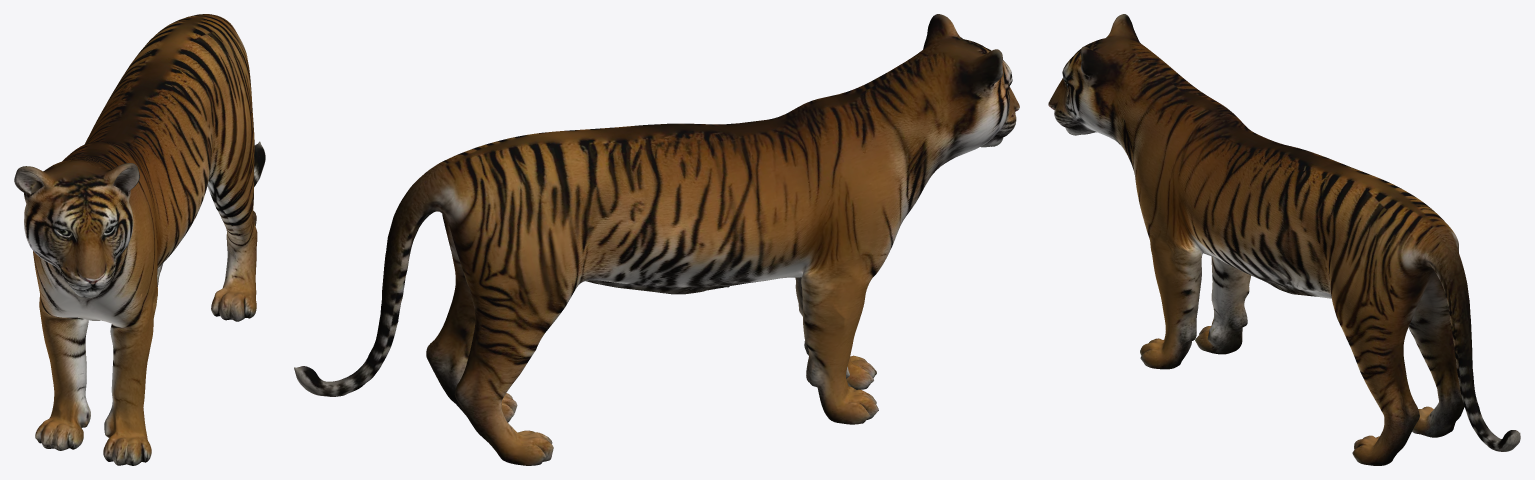
File: tiger--indochinese.glb
3 views of the same model, side by side, from view 1: azimuth 30°, elevation 25°; view 2: azimuth 150°, elevation 25°; view 3: azimuth 270°, elevation 25° (orthographic). The views are drawn at different scales.
Parts seen in each view (by area): view 1: node_0; view 2: node_0; view 3: node_0.
Part boxes in pixels (left/top/right/bottom): node_0: left=14, top=14, right=265, bottom=465; node_0: left=294, top=14, right=1019, bottom=465; node_0: left=1048, top=14, right=1520, bottom=465.
Bounding box in the file's own units: 0.8234 × 0.5677 × 0.8249.
1 material, 1 textured.
